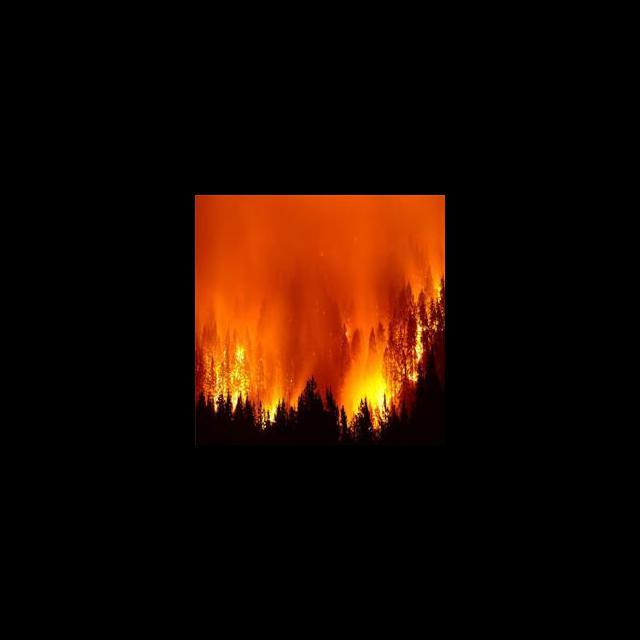Fire: (207, 348, 252, 414), (346, 370, 394, 426), (258, 390, 282, 428), (413, 322, 424, 362), (432, 277, 442, 297), (406, 368, 420, 382)
